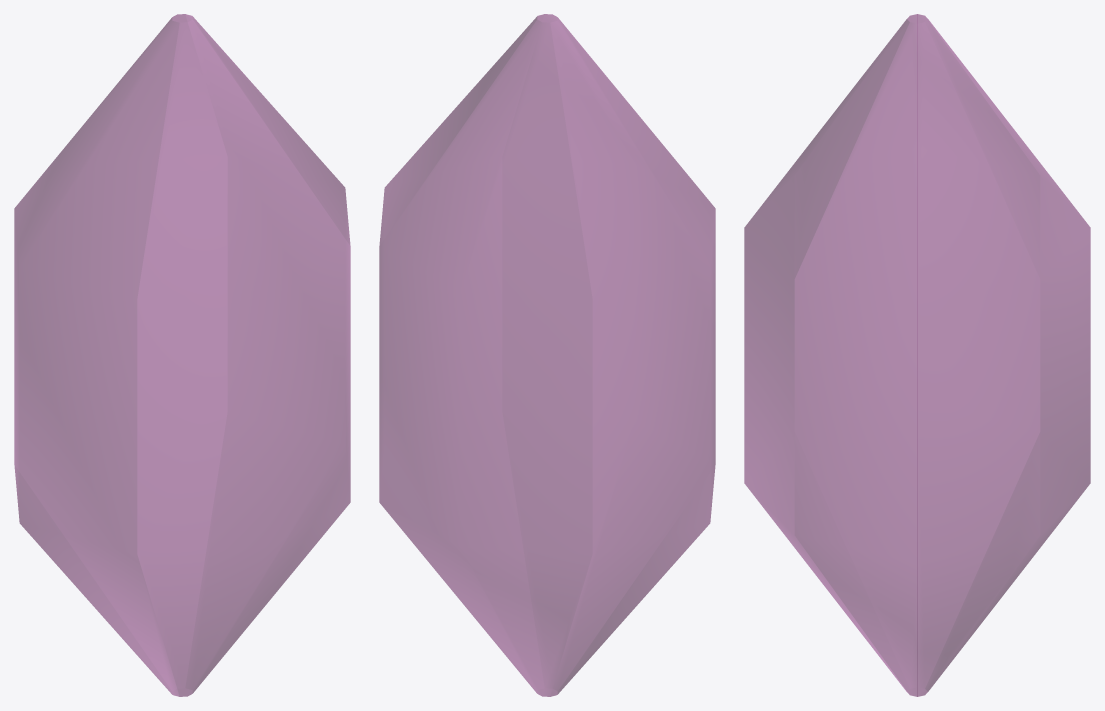
The model's file is Crystal.fbx.
3 views of the same model, side by side, from view 1: azimuth 30°, elevation 25°; view 2: azimuth 150°, elevation 25°; view 3: azimuth 270°, elevation 25° (orthographic).
Visible parts, largest first — view 1: Crystal; view 2: Crystal; view 3: Crystal.
Boxes of the visible parts, bbox=[...] form: Crystal: bbox=[14, 14, 350, 696]; Crystal: bbox=[379, 14, 715, 696]; Crystal: bbox=[744, 14, 1090, 696].
Size of the model in its own units: 11.27 by 22.29 by 10.39.
